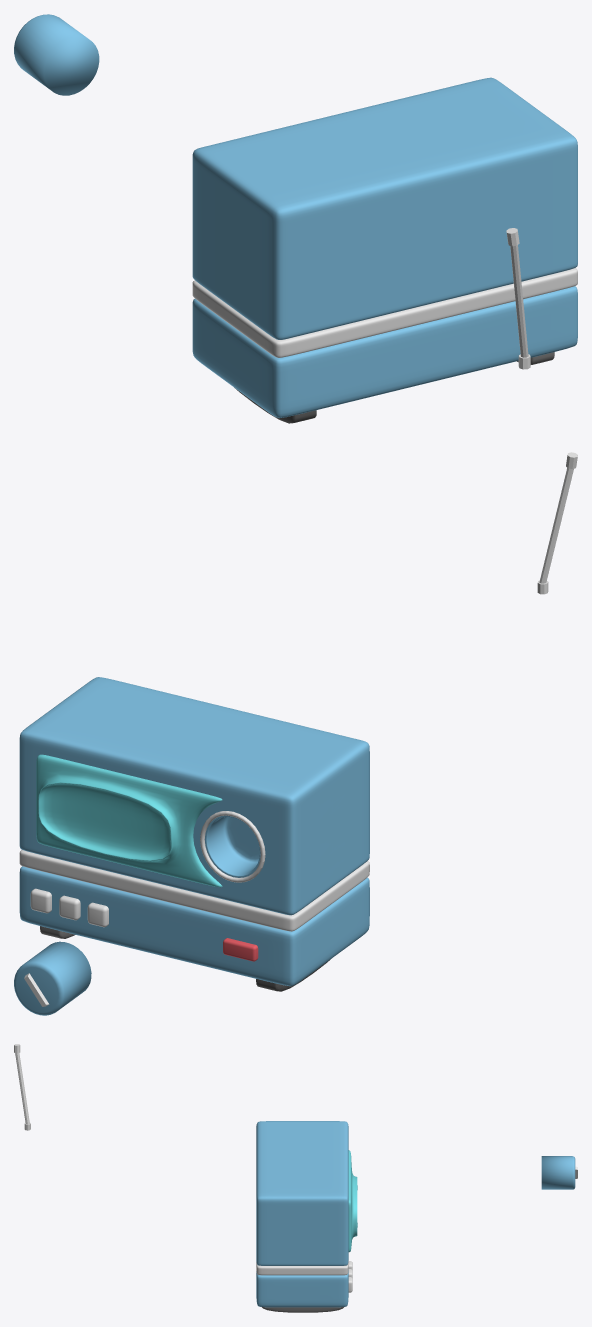
File: radio parts.fbx
3 renders of one model, top to bottom at view 1: azimuth 30°, elevation 25°; view 2: azimuth 150°, elevation 25°; view 3: azimuth 270°, elevation 25°, orthographic. The views are drawn at different scales.
Parts seen in each view (by area): view 1: Cube, Cube.007, Cube.006, Cylinder, Cylinder.001; view 2: Cube, Cube.007, Cube.001, Cube.006, Cylinder, Cylinder.001, Cube.010; view 3: Cube, Cube.007, Cylinder, Cube.006, Cube.001, Cylinder.001, Cube.009.
Part boxes in pixels (x1=…): Cube: x1=192, y1=77, x2=577, y2=339; Cube.007: x1=192, y1=286, x2=577, y2=417; Cube.006: x1=192, y1=268, x2=577, y2=357; Cylinder: x1=14, y1=14, x2=99, y2=95; Cylinder.001: x1=506, y1=228, x2=530, y2=369; Cube: x1=19, y1=677, x2=369, y2=915; Cube.007: x1=19, y1=866, x2=369, y2=986; Cube.001: x1=36, y1=754, x2=222, y2=887; Cube.006: x1=19, y1=850, x2=369, y2=931; Cylinder: x1=14, y1=941, x2=91, y2=1015; Cylinder.001: x1=537, y1=452, x2=577, y2=594; Cube.010: x1=200, y1=811, x2=265, y2=882; Cube: x1=256, y1=1121, x2=348, y2=1265; Cube.007: x1=256, y1=1270, x2=348, y2=1307; Cylinder: x1=541, y1=1156, x2=577, y2=1189; Cube.006: x1=256, y1=1261, x2=348, y2=1275; Cube.001: x1=348, y1=1150, x2=357, y2=1252; Cylinder.001: x1=14, y1=1044, x2=30, y2=1130; Cube.009: x1=262, y1=1307, x2=343, y2=1312.
Size of the model in its own units: 16 by 18.9 by 48.89.
